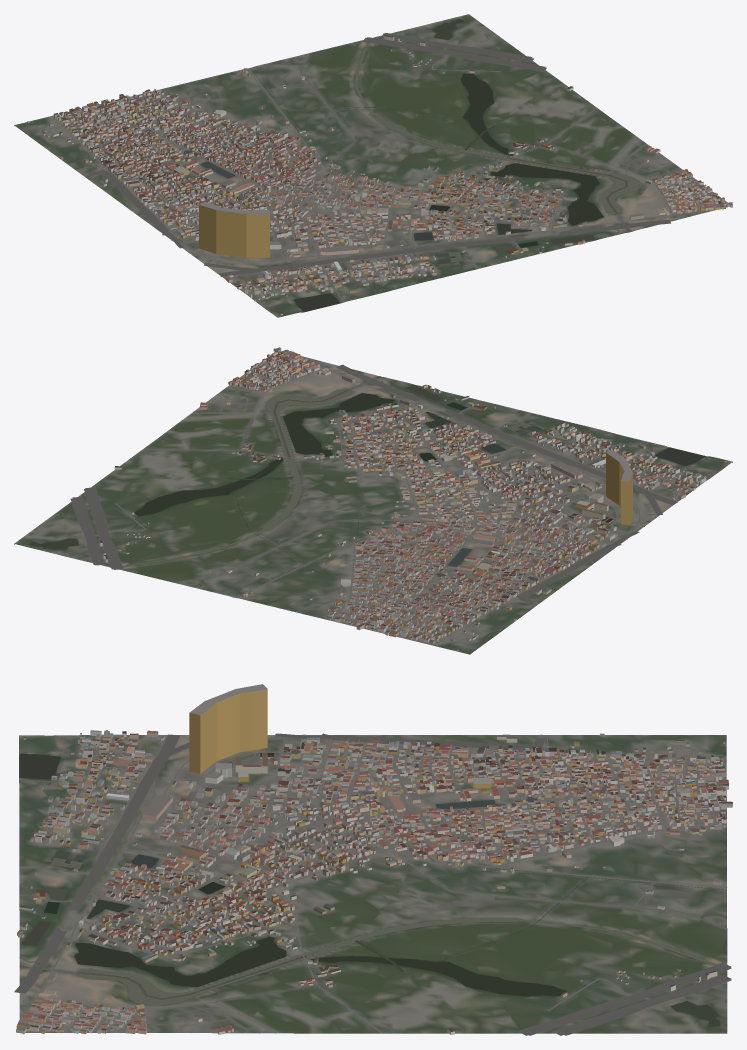
The picture shows the model from 3 angles, top to bottom: view 1: azimuth 30°, elevation 25°; view 2: azimuth 150°, elevation 25°; view 3: azimuth 270°, elevation 25°; orthographic projection. The views are drawn at different scales.
Visible parts, largest first — view 1: ground, buildings, roads, water; view 2: ground, buildings, roads, water; view 3: ground, buildings, roads, water.
Part boxes in pixels (x1,y1,x2,y2): ground: (14, 14, 727, 317); buildings: (27, 35, 732, 315); roads: (47, 33, 725, 303); water: (200, 19, 641, 311); ground: (14, 352, 732, 654); buildings: (99, 347, 726, 650); roads: (70, 355, 713, 645); water: (29, 376, 705, 596); ground: (19, 734, 727, 1033); buildings: (16, 684, 732, 1034); roads: (14, 733, 731, 1035); water: (19, 753, 726, 1026).
Size of the model in its own units: 1417 by 135 by 1424.
